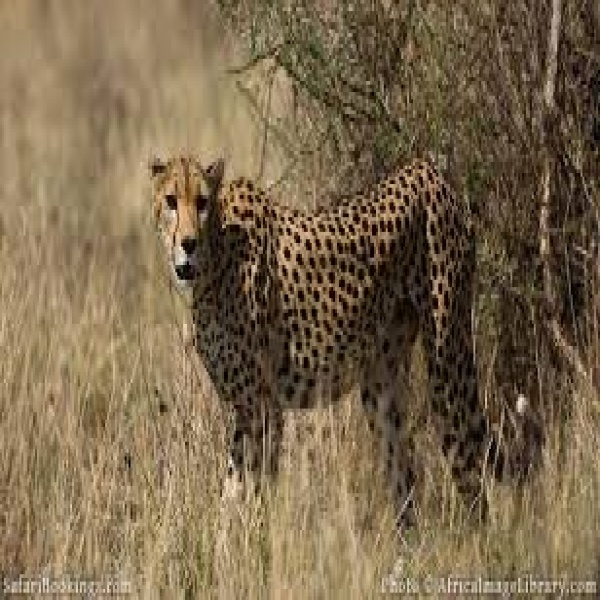Cheetah: (144, 145, 533, 580)
